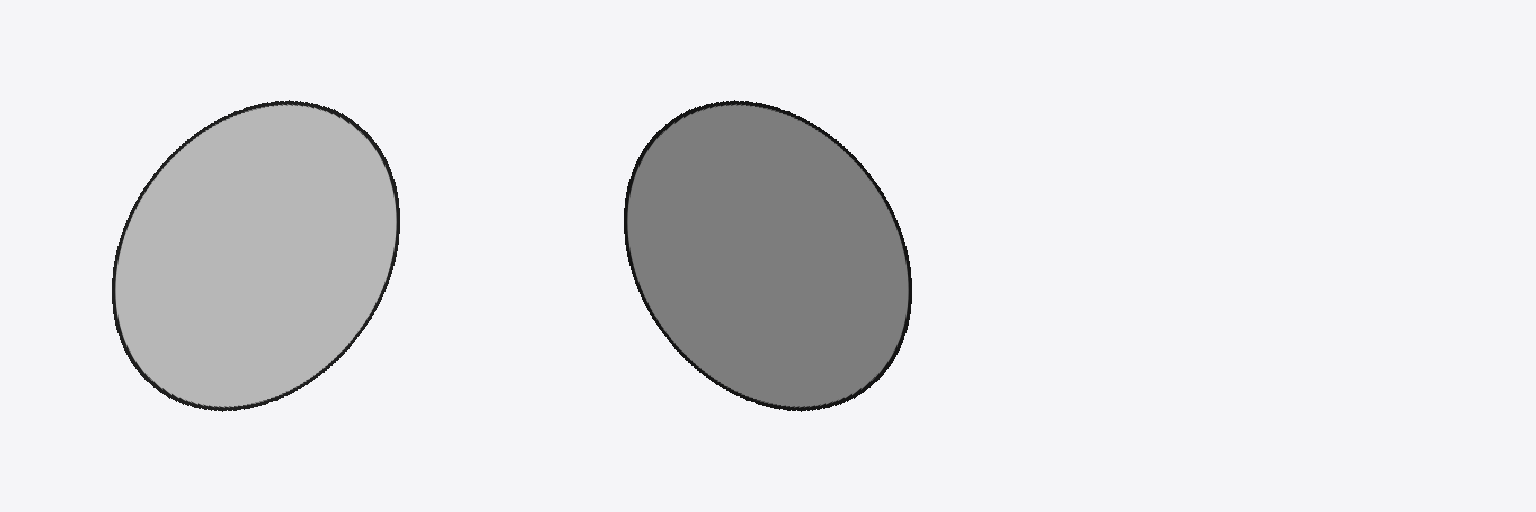
The picture shows the model from 3 angles: view 1: azimuth 30°, elevation 25°; view 2: azimuth 150°, elevation 25°; view 3: azimuth 270°, elevation 25°; orthographic projection.
Visible parts, largest first — view 1: Plane; view 2: Plane; view 3: none.
Part boxes in pixels (x1,y1,x2,y2): Plane: (112, 100, 399, 411); Plane: (624, 100, 911, 411).
Bounding box in the file's own units: 2 × 2 × 0.
1 materials, 1 textured.